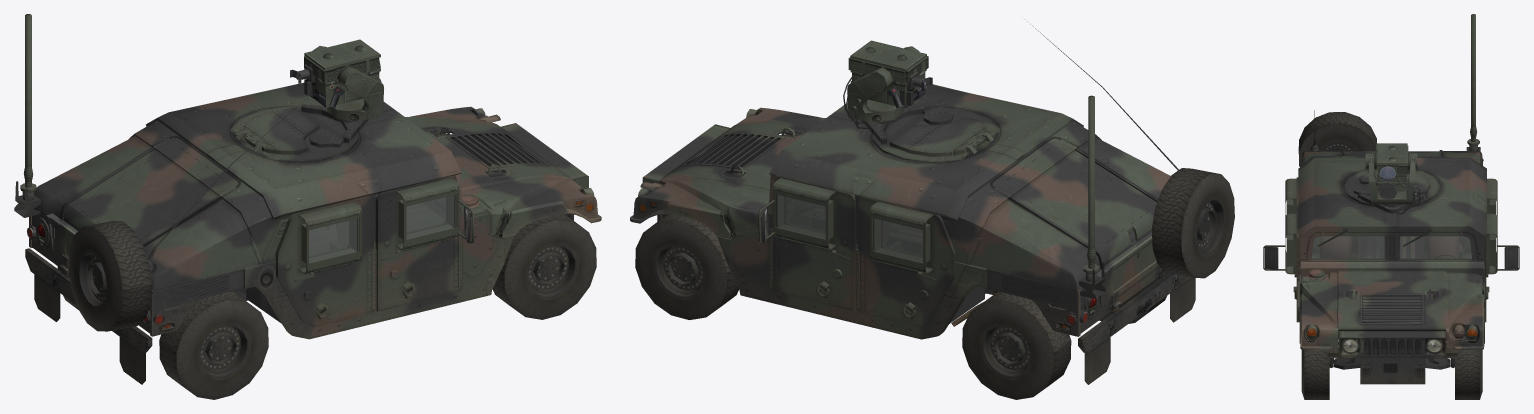
File: van.glb
3 renders of one model, left to right at view 1: azimuth 30°, elevation 25°; view 2: azimuth 150°, elevation 25°; view 3: azimuth 270°, elevation 25°, orthographic. The views are drawn at different scales.
Visible parts, largest first — view 1: hull, hull2, hatch7, hatch2, hatch4, tire3, spare tire, tire, lras, mount, hatch5, antenna (+12 smaller); view 2: hull, hull2, hatch7, hatch3, hatch, tire4, spare tire, tire2, lras, mount, hatch5, hullb (+12 smaller); view 3: hull, hull2, hullb, window, lras, spare tire, interior, hatch2, tire, tire2, hatch, mount (+8 smaller).
Boxes of the visible parts, bbox=[...] form: hull: bbox=[25, 82, 514, 353]; hull2: bbox=[405, 106, 601, 238]; hatch7: bbox=[58, 135, 241, 246]; hatch2: bbox=[375, 175, 474, 311]; hatch4: bbox=[275, 196, 376, 327]; tire3: bbox=[159, 291, 268, 399]; spare tire: bbox=[68, 221, 151, 331]; tire: bbox=[492, 214, 596, 319]; lras: bbox=[290, 39, 383, 133]; mount: bbox=[230, 104, 368, 161]; hatch5: bbox=[242, 107, 319, 154]; antenna: bbox=[14, 14, 40, 217]; hull: bbox=[717, 84, 1191, 353]; hull2: bbox=[630, 107, 825, 239]; hatch7: bbox=[989, 136, 1158, 270]; hatch3: bbox=[855, 196, 955, 326]; hatch: bbox=[758, 176, 855, 311]; tire4: bbox=[962, 291, 1071, 399]; spare tire: bbox=[1152, 168, 1234, 278]; tire2: bbox=[635, 214, 738, 319]; lras: bbox=[843, 40, 932, 129]; mount: bbox=[861, 105, 1000, 162]; hatch5: bbox=[889, 117, 988, 156]; hullb: bbox=[642, 124, 984, 323]; hull: bbox=[1297, 151, 1486, 343]; hull2: bbox=[1300, 270, 1484, 350]; hullb: bbox=[1301, 236, 1484, 384]; window: bbox=[1312, 236, 1471, 259]; lras: bbox=[1365, 143, 1420, 214]; spare tire: bbox=[1298, 112, 1376, 166]; interior: bbox=[1300, 236, 1471, 265]; hatch2: bbox=[1263, 208, 1300, 322]; tire: bbox=[1301, 349, 1329, 399]; tire2: bbox=[1455, 350, 1482, 399]; hatch: bbox=[1484, 213, 1519, 322]; mount: bbox=[1344, 170, 1440, 213].
Size of the model in its own units: 5.33 by 3.24 by 3.21.
16 materials, 16 textured.
